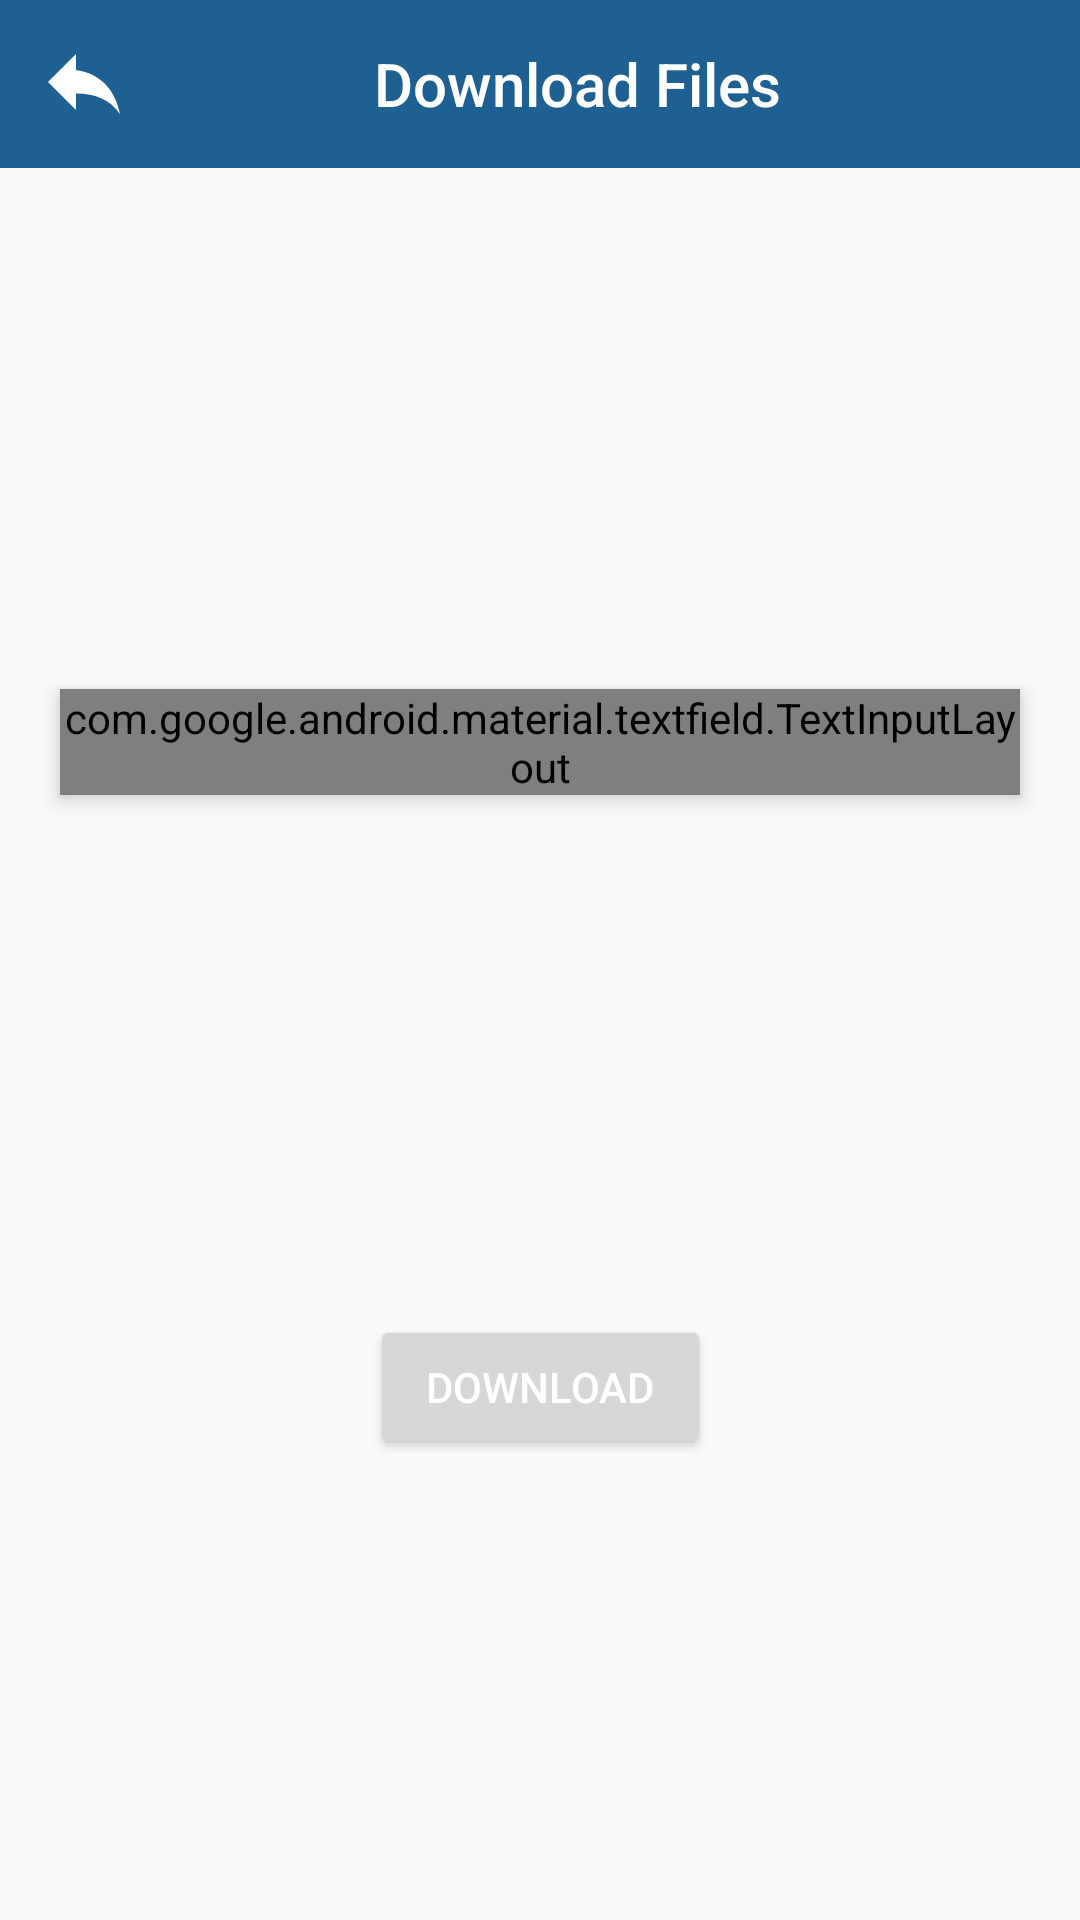

Icon bounding boxes for this 1080px×1920px phone screenshot, format (x1, y1, x2, y2):
back: (48, 54, 120, 114)
